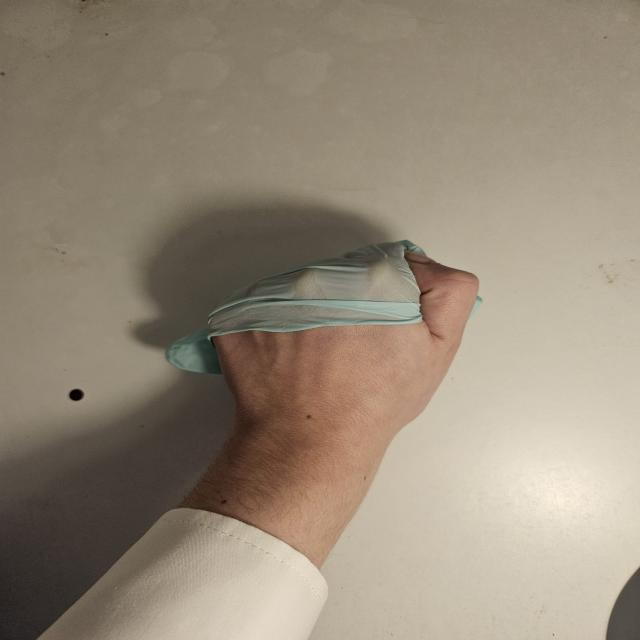glove_partial: (163, 238, 485, 424)
